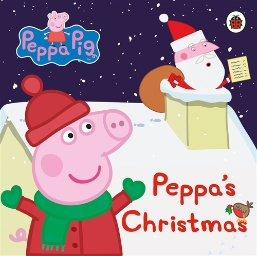Peppa: (2, 75, 148, 256)
